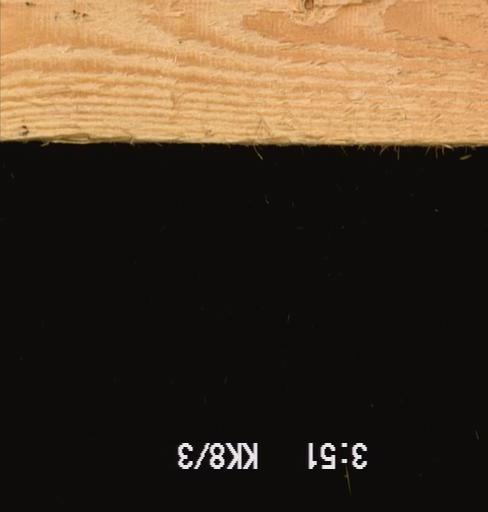edge_knot: (303, 0, 316, 12)
